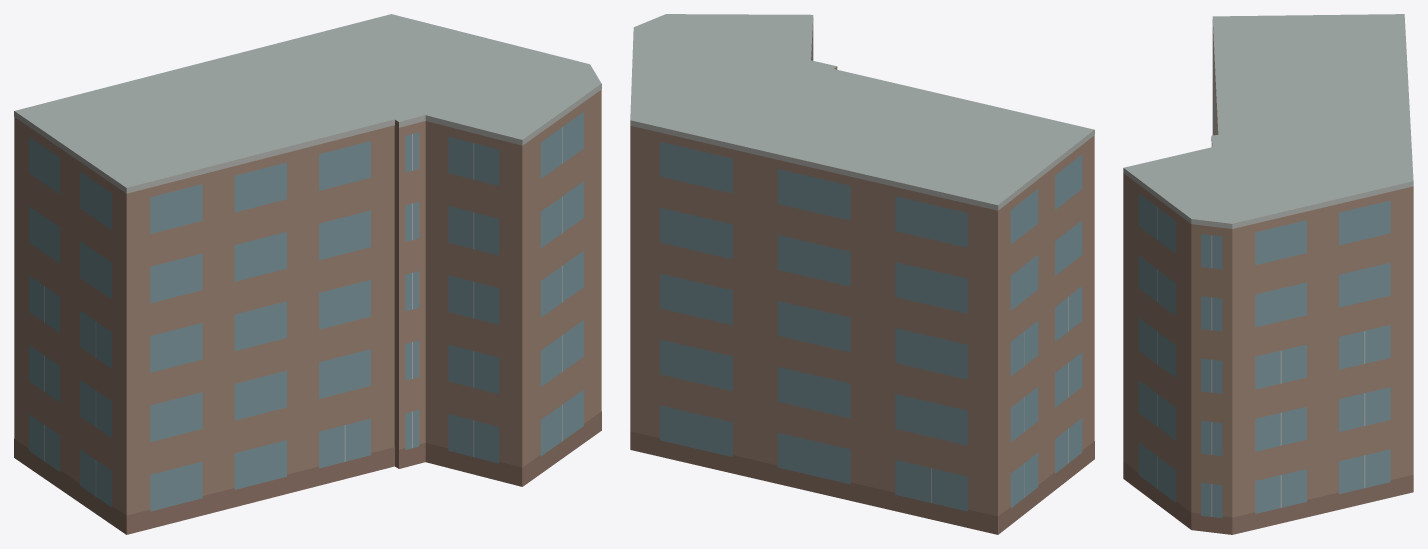
Rendered from survey-upis-32926615.glb.
3 renders of one model, left to right at view 1: azimuth 30°, elevation 25°; view 2: azimuth 150°, elevation 25°; view 3: azimuth 270°, elevation 25°, orthographic. The views are drawn at different scales.
Visible parts, largest first — view 1: survey-upis-32926615.tmp; view 2: survey-upis-32926615.tmp; view 3: survey-upis-32926615.tmp.
Boxes of the visible parts, x1=… form: survey-upis-32926615.tmp: x1=14, y1=14, x2=601, y2=534; survey-upis-32926615.tmp: x1=630, y1=14, x2=1094, y2=534; survey-upis-32926615.tmp: x1=1123, y1=14, x2=1413, y2=534.
Size of the model in its own units: 21.43 by 14.8 by 12.53.
